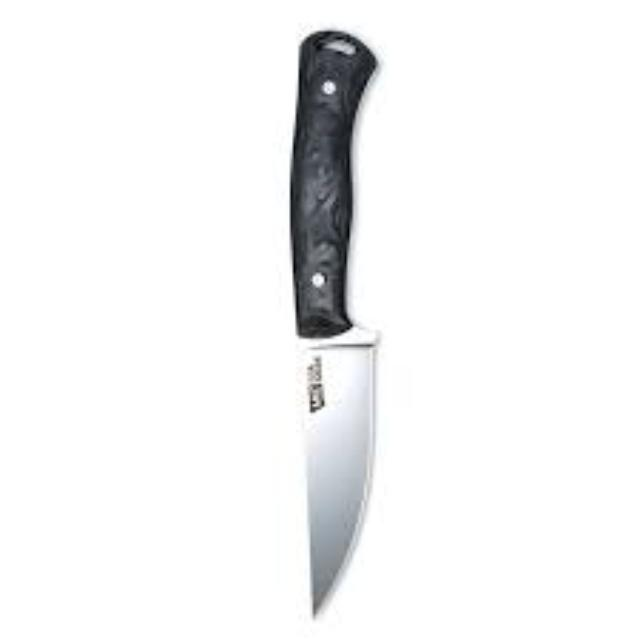knife: (288, 26, 380, 616)
